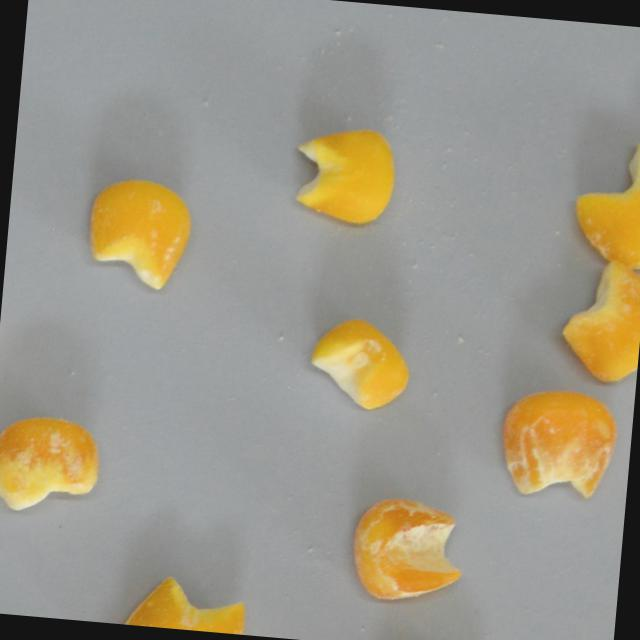no_canjicado: (291, 121, 401, 228)
no_desgerminado: (306, 314, 413, 413)
pelicula: (347, 489, 470, 608), (497, 383, 620, 502), (84, 174, 194, 292), (557, 254, 640, 384), (0, 412, 102, 517), (568, 136, 640, 269), (116, 571, 247, 634)
